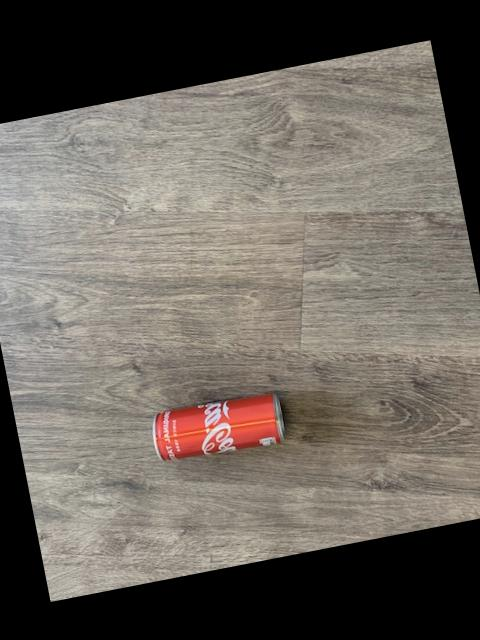metal: (154, 393, 285, 460)
